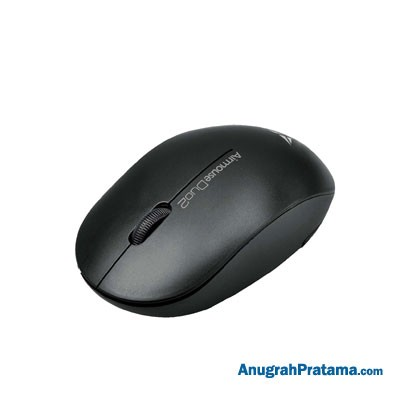Mouse: (72, 120, 341, 318)
